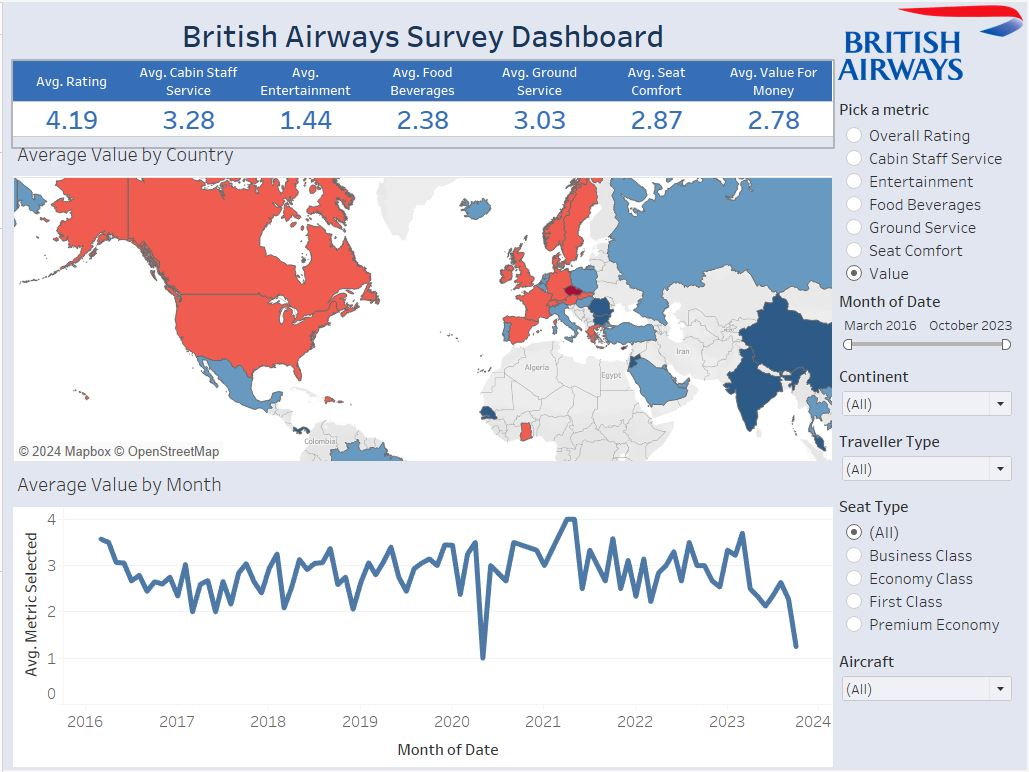

The dashboard page shown, as its layout file describes it:
{"tool":"tableau","page":{"name":"BA Map Dashboard","canvas":[1024,768],"ordinal":0},"visuals":[{"type":"image","param":"D:/Data Analysis/Homework/Tableau/BA.png","box":[834,3,186,89]},{"type":"text","box":[10,9,820,47]},{"type":"worksheet","title":"Summary","mark":"Automatic","box":[10,59,820,86]},{"type":"parameter","param":"[Parameters].[Parameter 1]","box":[836,97,176,188]},{"type":"worksheet","title":"Average Metric by Country","mark":"Automatic","box":[10,135,820,325]},{"type":"filter","title":"Average Metric by Country","param":"[federated.0wmibe60wkze9o137row115ih77z].[tmn:date:qk]","box":[836,289,176,71]},{"type":"filter","title":"Average Metric by Country","param":"[federated.0wmibe60wkze9o137row115ih77z].[none:Continent:nk]","box":[836,364,176,61]},{"type":"filter","title":"Average Metric by Country","param":"[federated.0wmibe60wkze9o137row115ih77z].[none:traveller_type:nk]","box":[836,429,176,61]},{"type":"worksheet","title":"Avg. Metric by Month","mark":"Automatic","rows":["Calculation_1199646401497853953"],"cols":["date"],"box":[10,465,820,300]},{"type":"filter","title":"Average Metric by Country","param":"[federated.0wmibe60wkze9o137row115ih77z].[none:seat_type:nk]","box":[836,494,176,151]},{"type":"filter","title":"Average Metric by Country","param":"[federated.0wmibe60wkze9o137row115ih77z].[none:aircraft:nk]","box":[836,649,176,61]}]}

Visuals, with their boxes in screenshot pixels (x1, y1, x2, y2), scaled from the page's 1024x768 canvas onto the 1029x772 screenshot:
image: box(838, 3, 1025, 92)
text: box(10, 9, 834, 56)
"Summary" worksheet: box(10, 59, 834, 146)
parameter: box(840, 98, 1017, 286)
"Average Metric by Country" worksheet: box(10, 136, 834, 462)
"Average Metric by Country" filter: box(840, 291, 1017, 362)
"Average Metric by Country" filter: box(840, 366, 1017, 427)
"Average Metric by Country" filter: box(840, 431, 1017, 493)
"Avg. Metric by Month" worksheet: box(10, 467, 834, 769)
"Average Metric by Country" filter: box(840, 497, 1017, 648)
"Average Metric by Country" filter: box(840, 652, 1017, 714)
